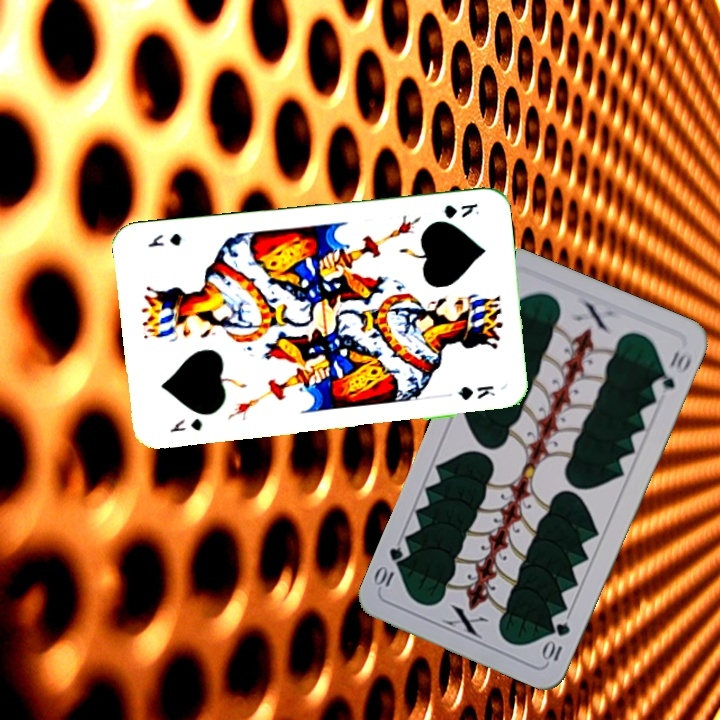G10: (539, 617, 573, 665)
GK: (440, 199, 481, 221), (166, 414, 205, 435)
